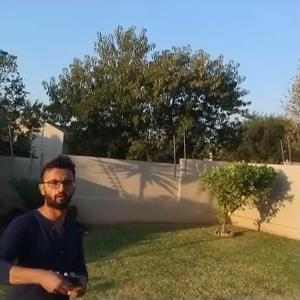follow: (0, 150, 96, 298)
